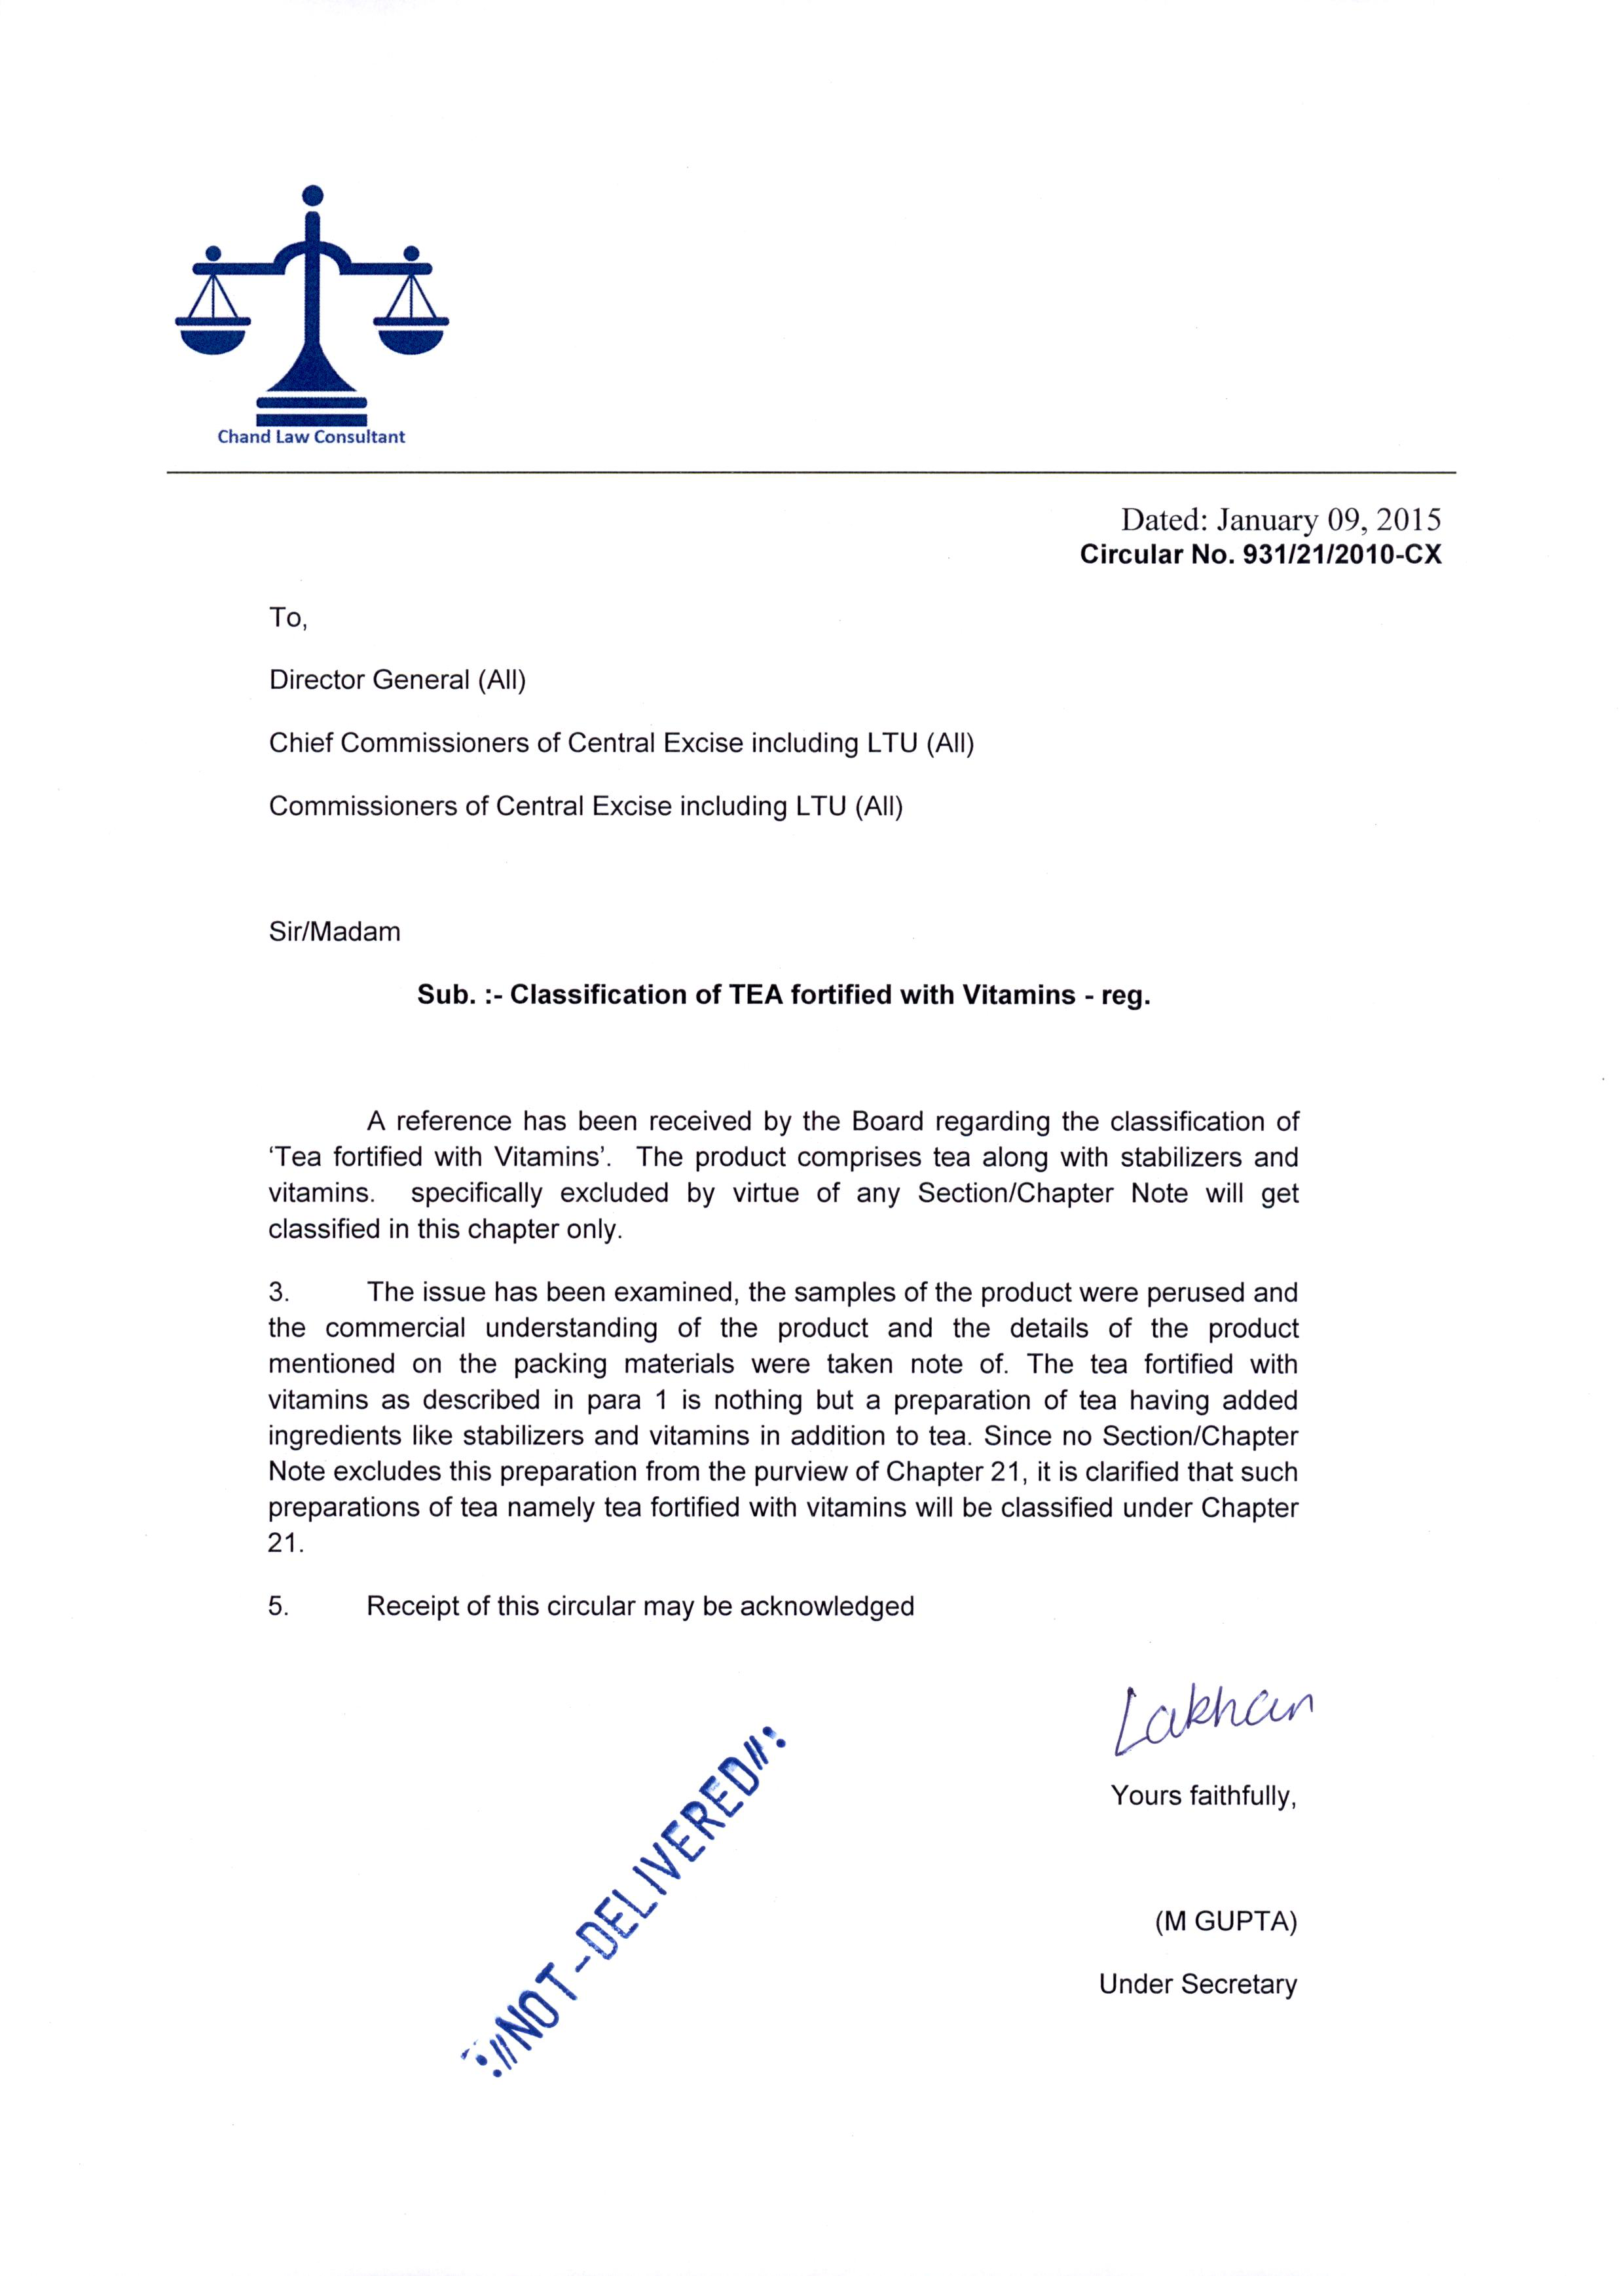Signature: (1104, 1671, 1323, 1759)
